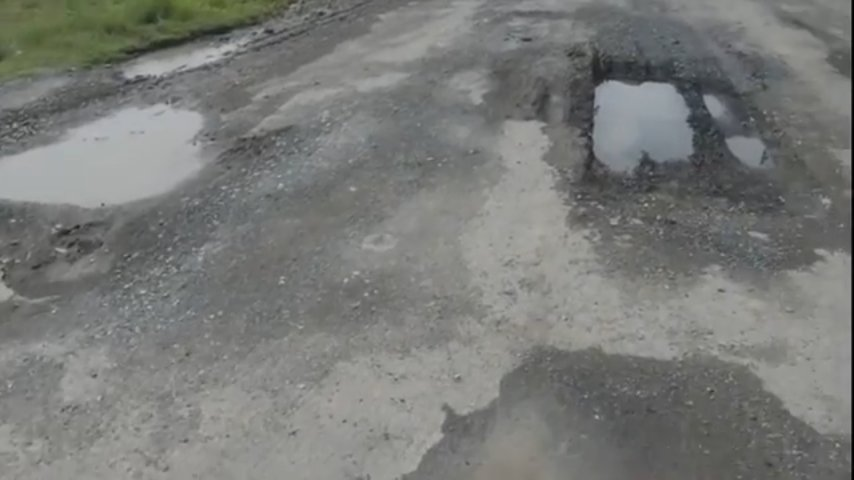pothole: (637, 328, 804, 480)
